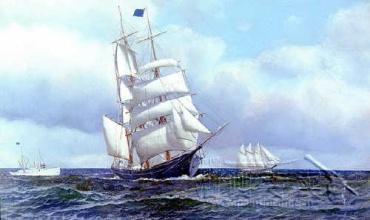fanchuan: (100, 10, 225, 180), (5, 142, 62, 178), (231, 138, 288, 173)
